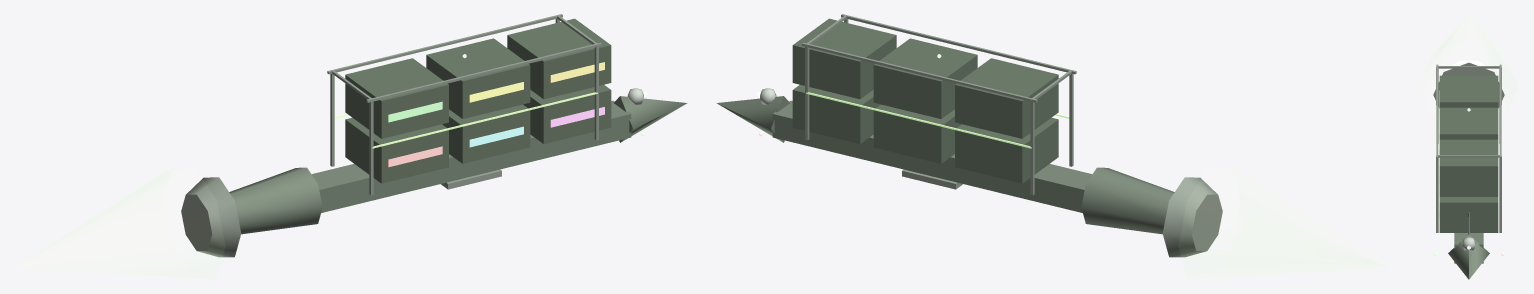
The model's file is CFV_Mule_Sprint.glb.
3 views of the same model, side by side, from view 1: azimuth 30°, elevation 25°; view 2: azimuth 150°, elevation 25°; view 3: azimuth 270°, elevation 25° (orthographic). The views are drawn at different scales.
Visible parts, largest first — view 1: CFV_Mule_Sprint; view 2: CFV_Mule_Sprint; view 3: CFV_Mule_Sprint.
Boxes of the visible parts, bbox=[...] form: CFV_Mule_Sprint: bbox=[181, 14, 687, 257]; CFV_Mule_Sprint: bbox=[716, 14, 1222, 257]; CFV_Mule_Sprint: bbox=[1433, 60, 1504, 279].
Size of the model in its own units: 14.95 by 3.39 by 2.4.
